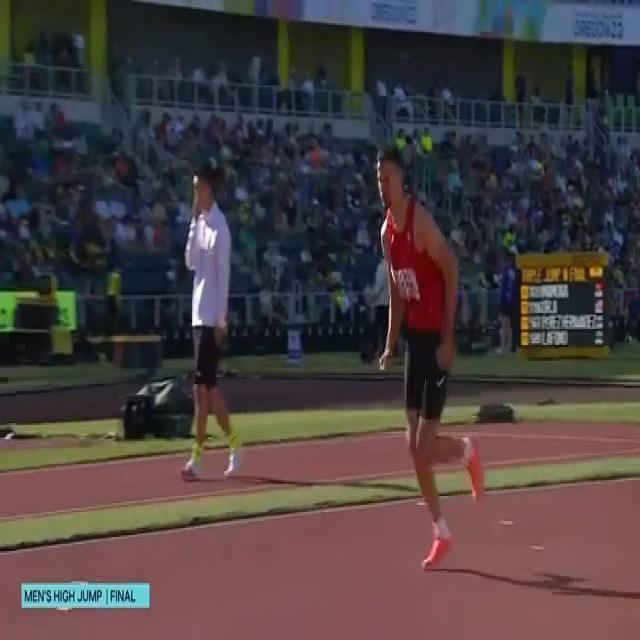run: (372, 147, 468, 581)
